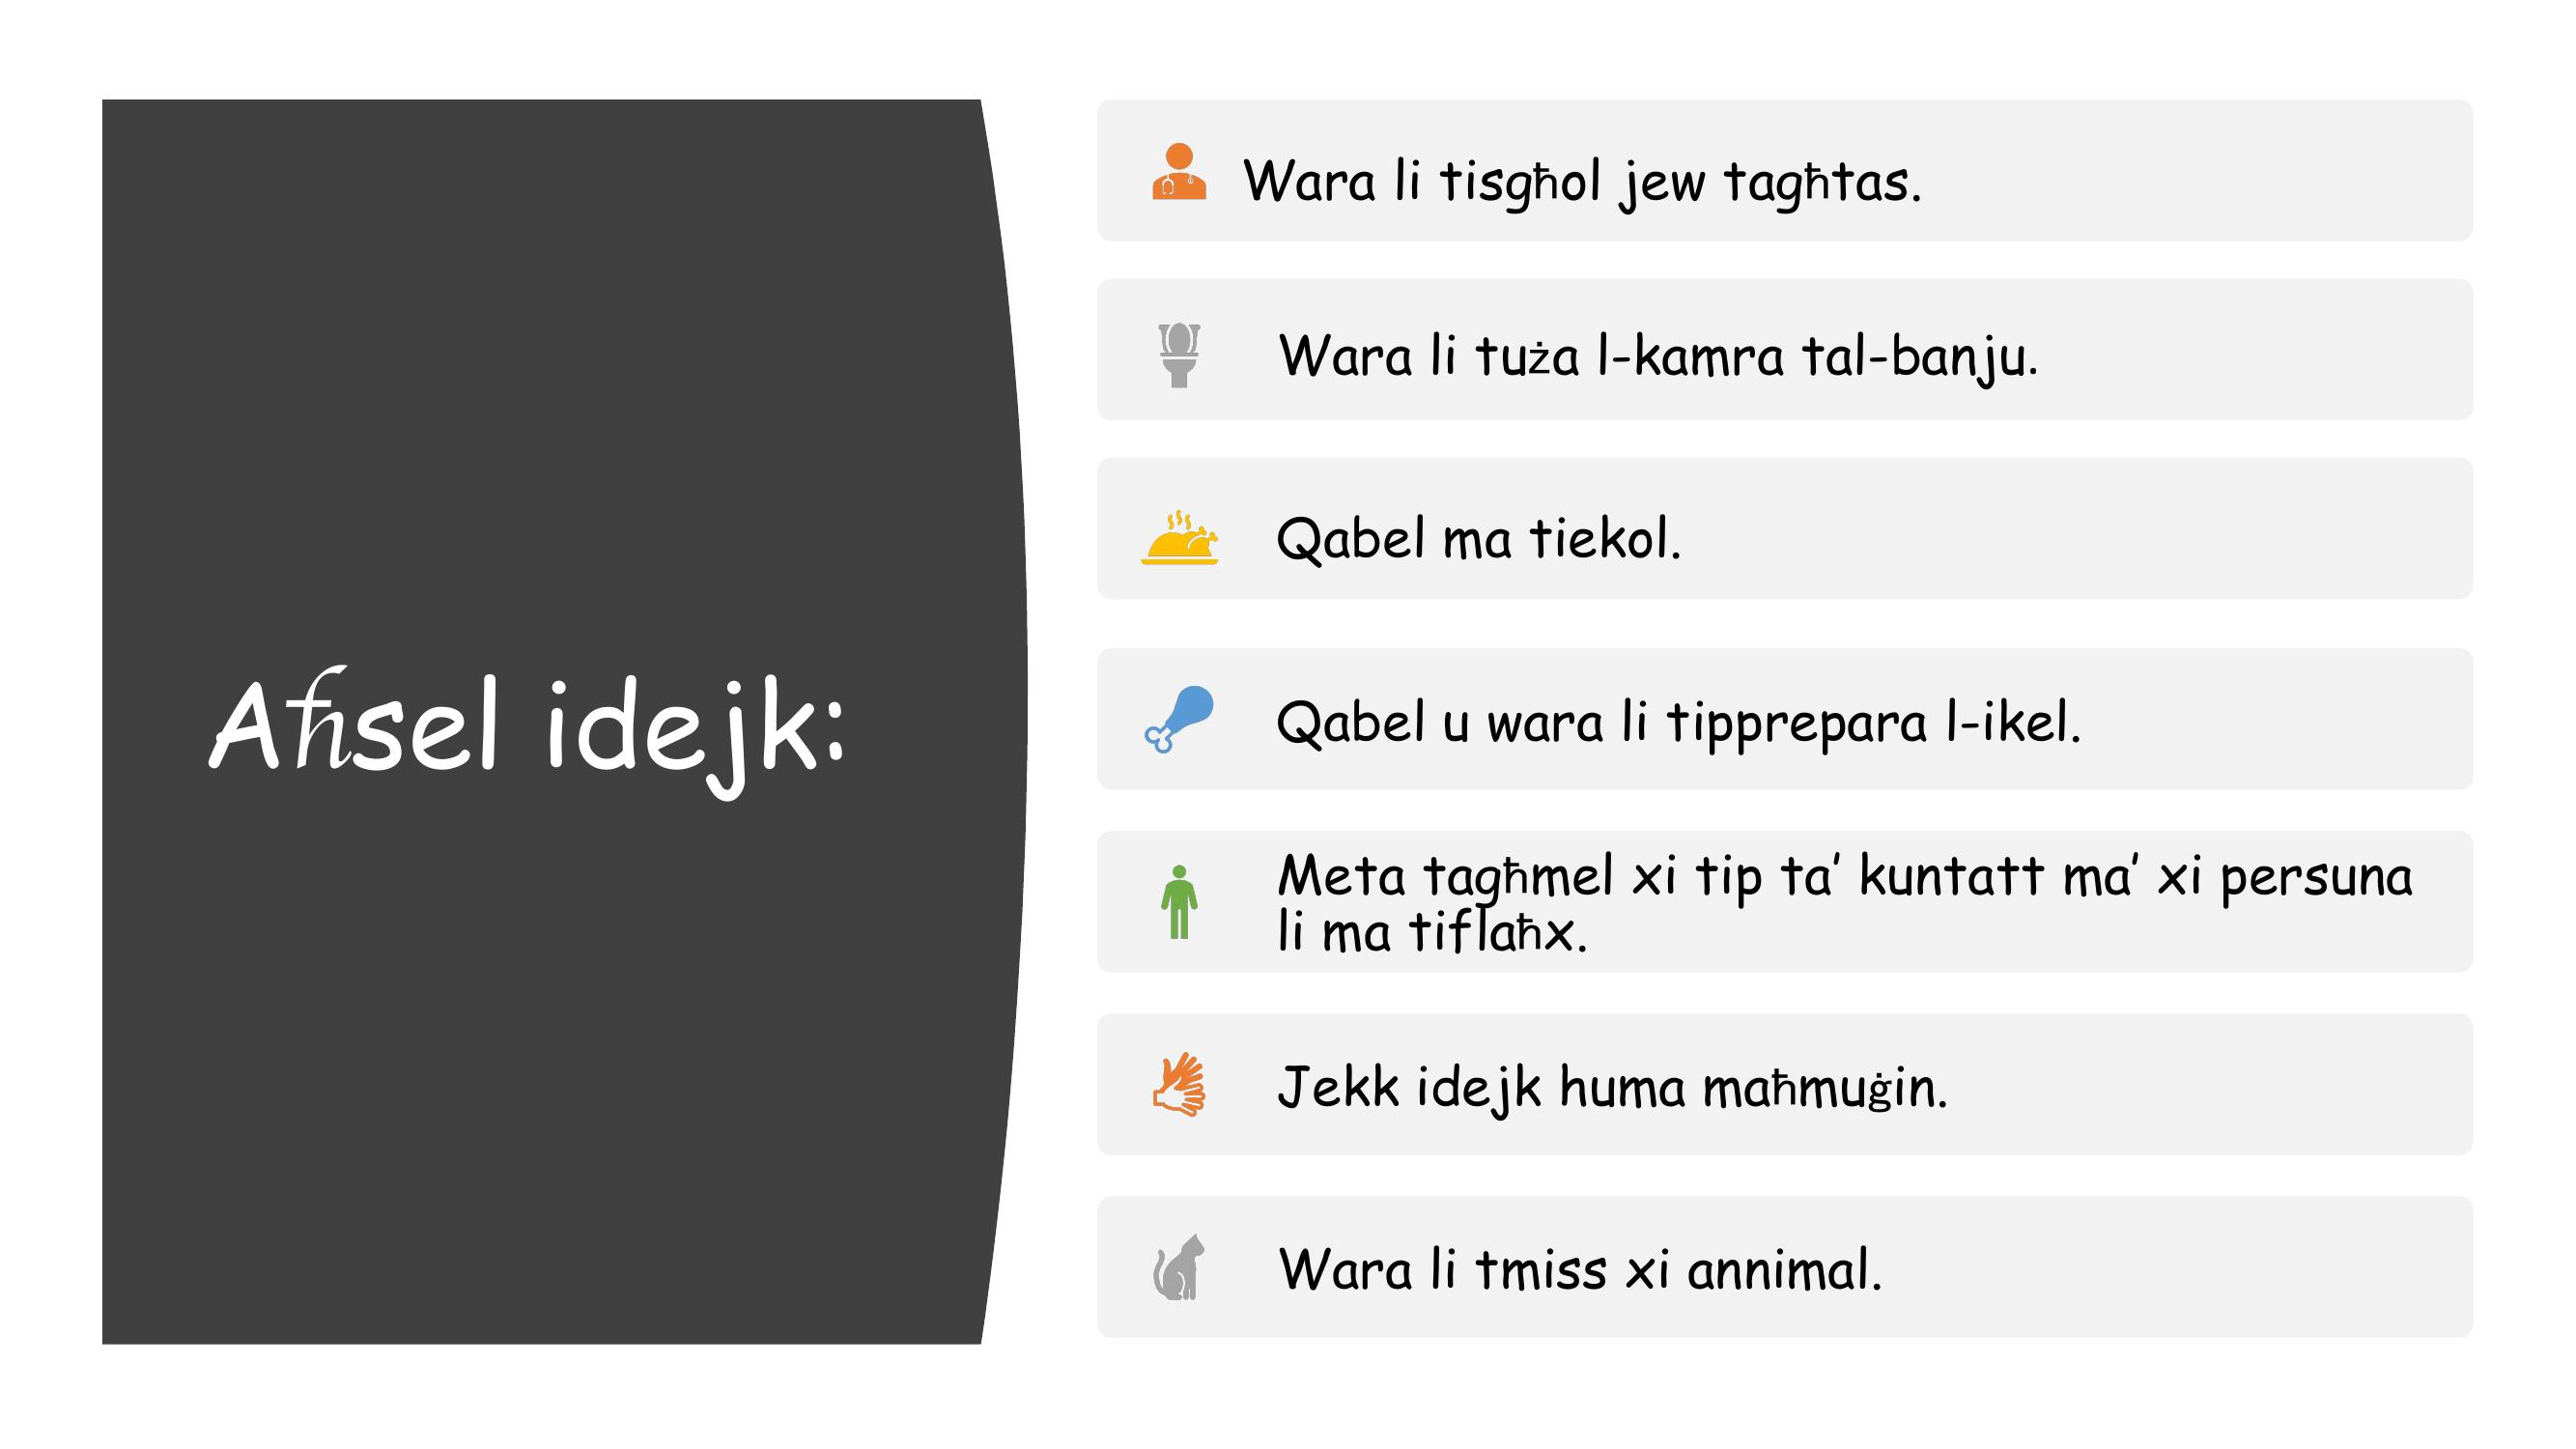text: (1226, 78, 2431, 1387), (166, 632, 888, 839)
